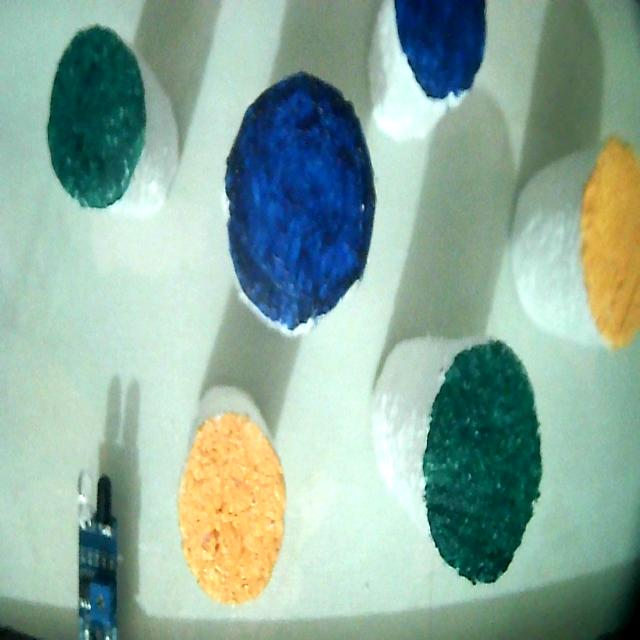blue: (225, 73, 375, 332), (395, 0, 485, 99)
green: (422, 341, 541, 583), (423, 341, 541, 583), (47, 26, 146, 207)
yellow: (179, 418, 285, 603), (580, 137, 639, 348), (394, 0, 485, 99)
